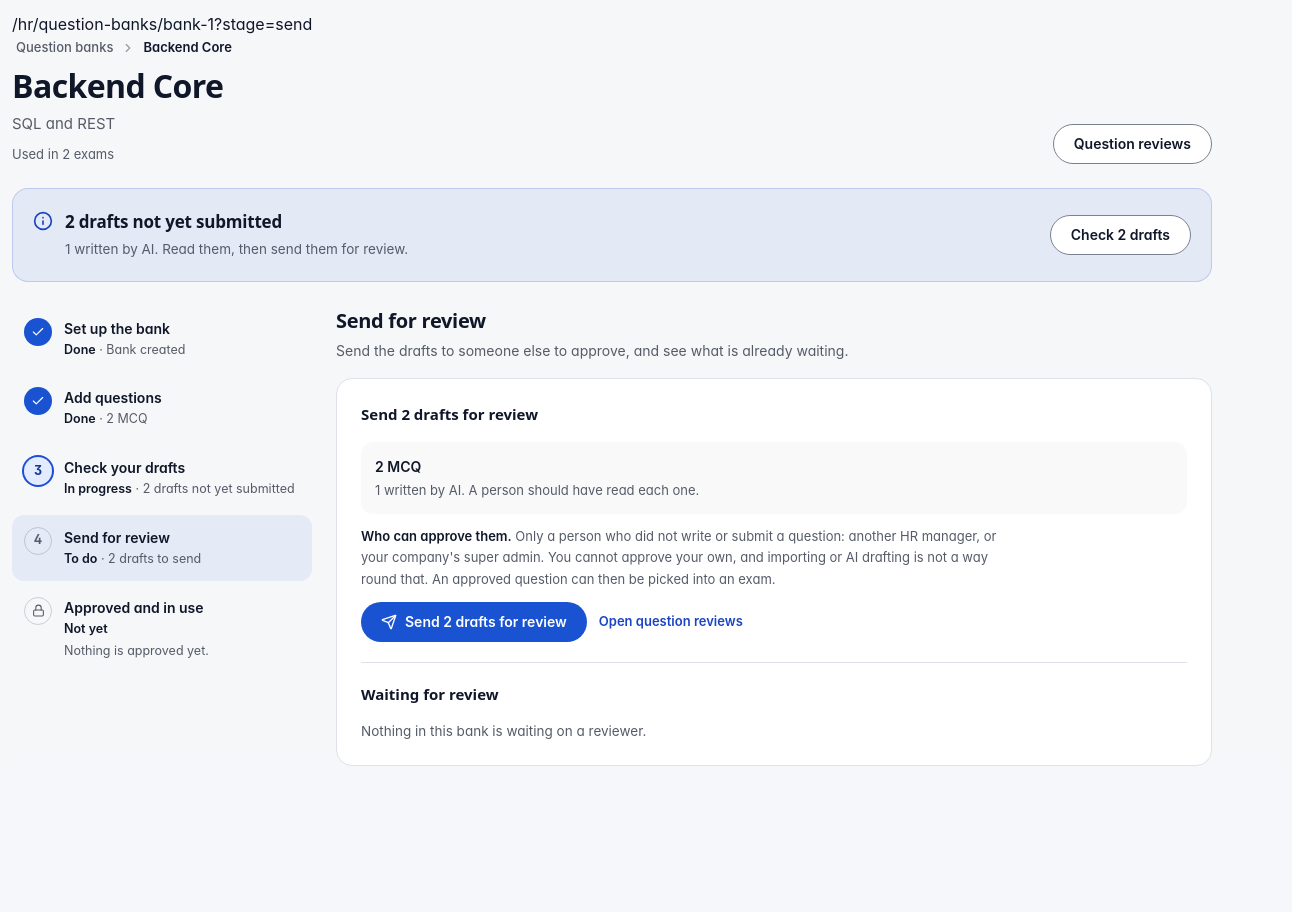
Scenario: QuestionBankFlow - send for review › reports what the review rule refused, per reason
Click the button "Send 2 drafts for review": [474, 622] box x1=361 y1=602 x2=587 y2=642
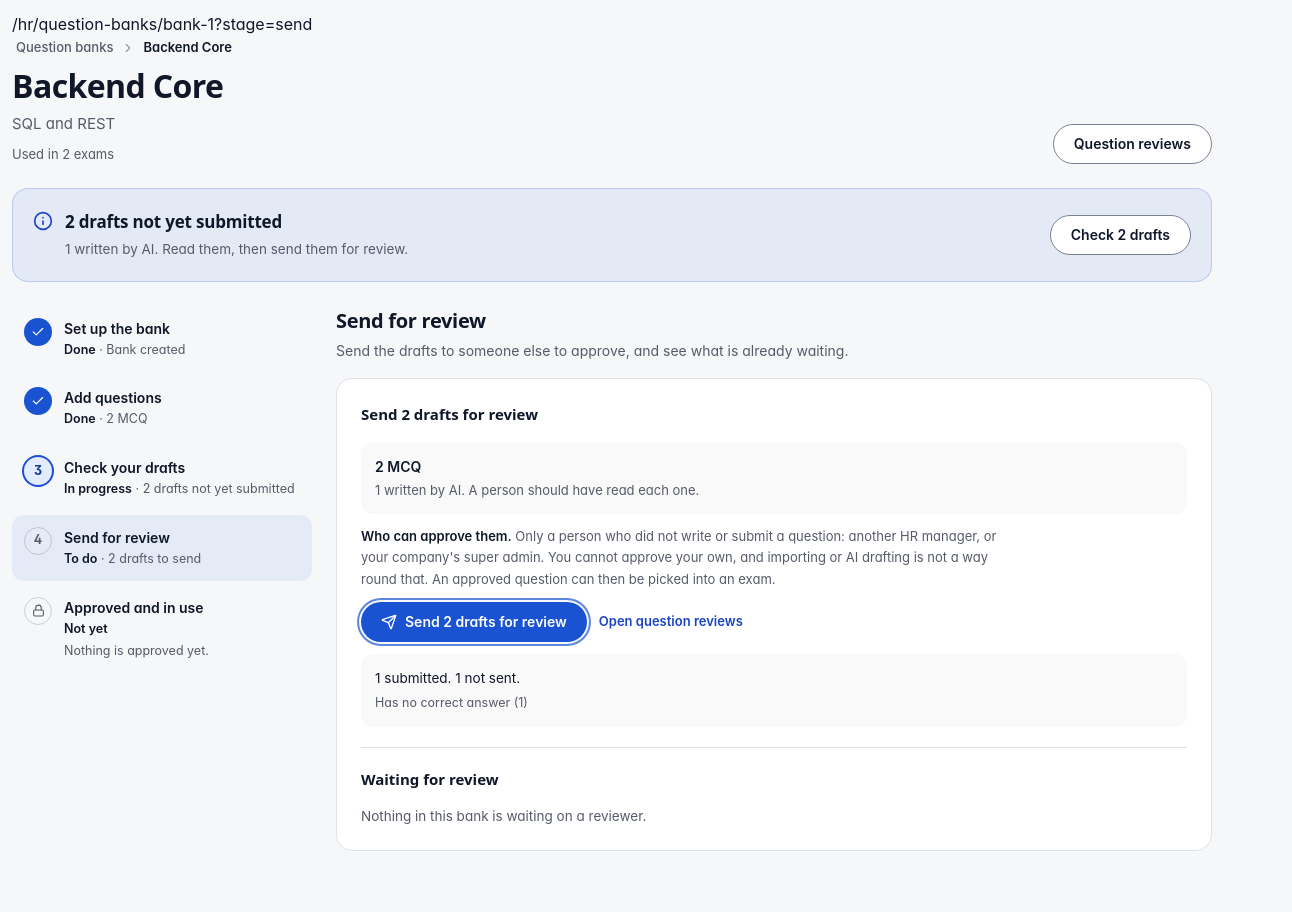
Expected: the message with test id "bank-bulk-result" shows "1 submitted. 1 not sent.", x1=361 y1=654 x2=1187 y2=727
Expected: the message with test id "bank-bulk-result" shows "Has no correct answer (1)", x1=361 y1=654 x2=1187 y2=727
